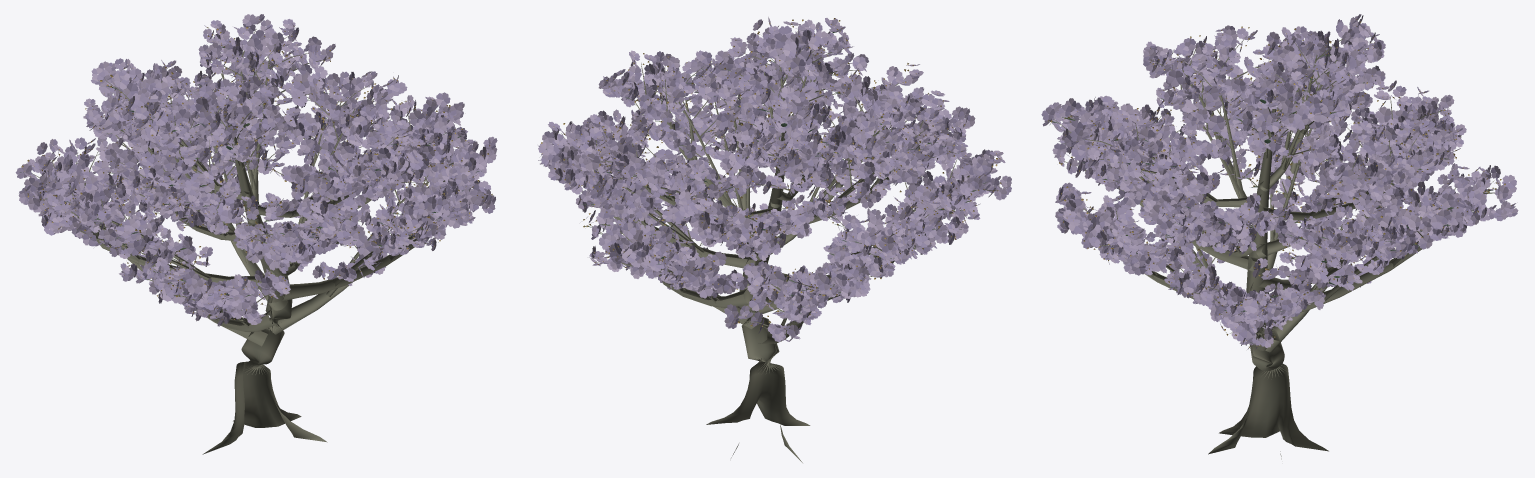
3 views of the same model, side by side, from view 1: azimuth 30°, elevation 25°; view 2: azimuth 150°, elevation 25°; view 3: azimuth 270°, elevation 25° (orthographic). The views are drawn at different scales.
Parts seen in each view (by area): view 1: leaves, branches; view 2: leaves, branches; view 3: leaves, branches.
Boxes of the visible parts, bbox=[...] form: leaves: bbox=[15, 14, 497, 326]; branches: bbox=[32, 29, 473, 454]; leaves: bbox=[538, 17, 1011, 342]; branches: bbox=[561, 31, 996, 462]; leaves: bbox=[1041, 14, 1518, 350]; branches: bbox=[1053, 36, 1494, 459].
Bounding box in the file's own units: 9.78 × 8.03 × 9.07.
